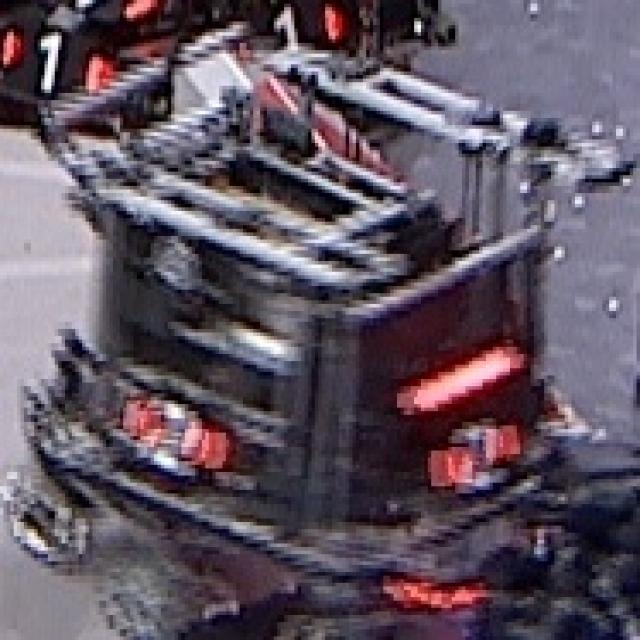R2: (116, 372, 226, 486), (428, 413, 530, 509)
